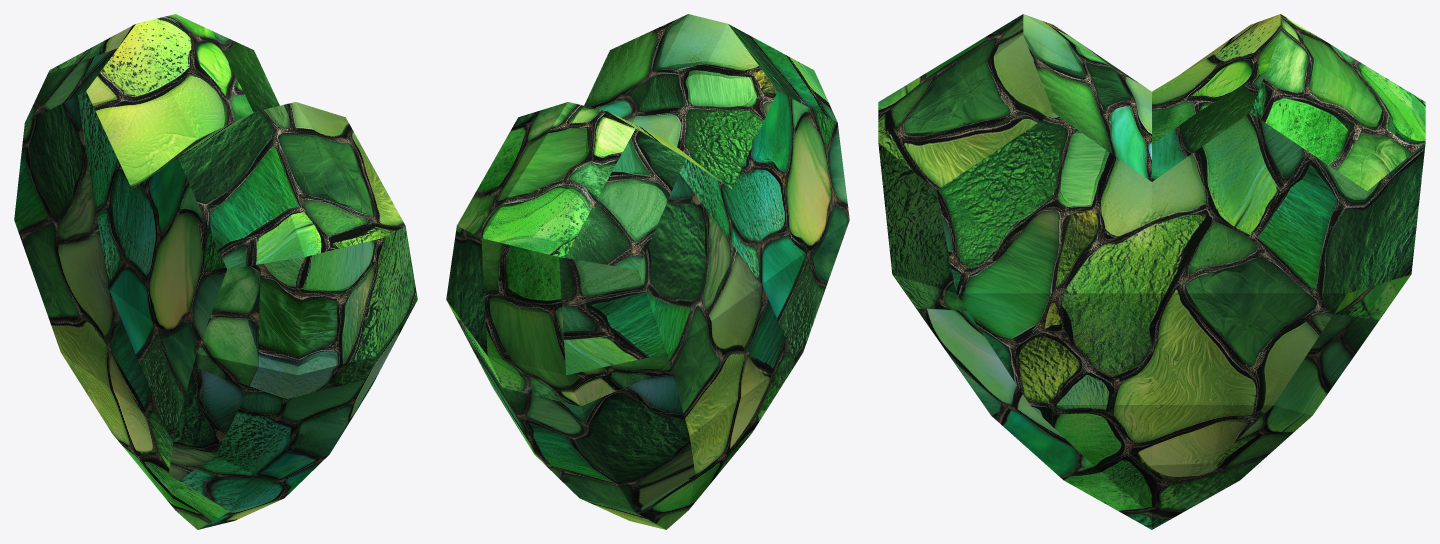
File: gemstone1Green.glb
3 views of the same model, side by side, from view 1: azimuth 30°, elevation 25°; view 2: azimuth 150°, elevation 25°; view 3: azimuth 270°, elevation 25° (orthographic). The views are drawn at different scales.
Parts seen in each view (by area): view 1: geamstoneHeart; view 2: geamstoneHeart; view 3: geamstoneHeart.
Part boxes in pixels (bbox=[...]): geamstoneHeart: bbox=[14, 14, 417, 529]; geamstoneHeart: bbox=[446, 14, 849, 529]; geamstoneHeart: bbox=[878, 14, 1425, 529].
Size of the model in its own units: 0.5 by 1 by 1.
1 material, 1 textured.
